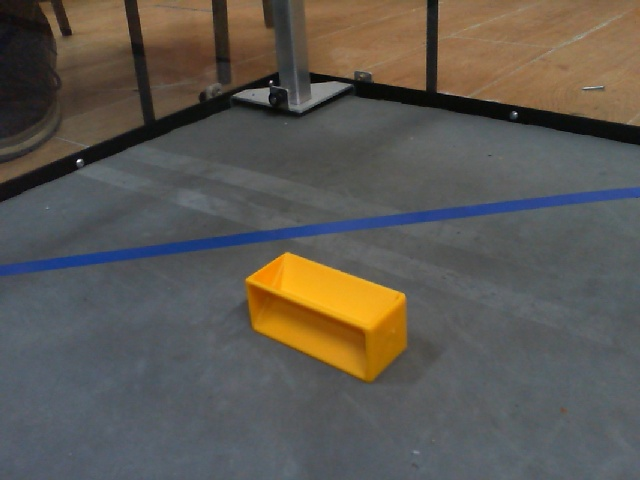YellowSample: (243, 250, 415, 395)
